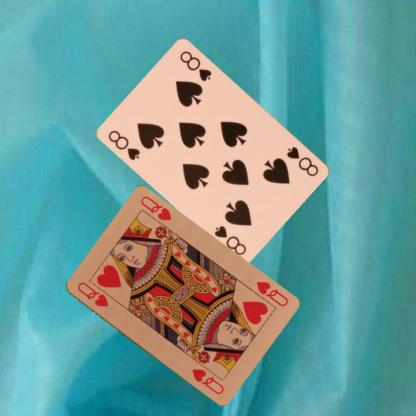8s: (106, 127, 142, 162), (284, 144, 320, 178)
Qh: (253, 278, 290, 308), (74, 279, 109, 309)
